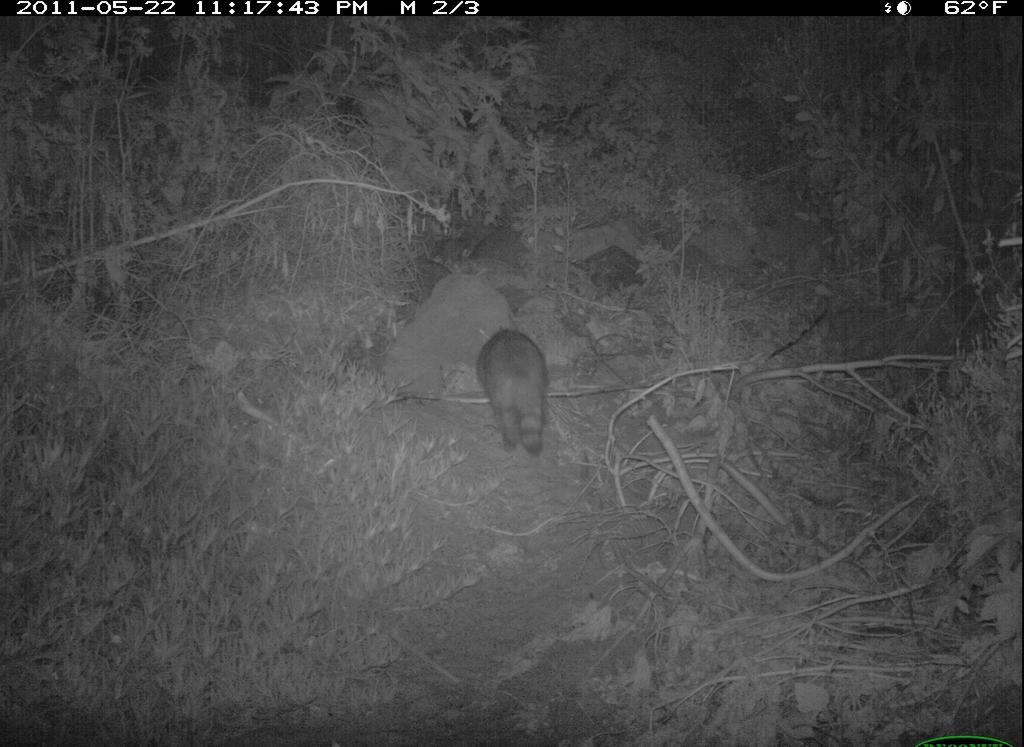raccoon: (468, 318, 568, 472)
